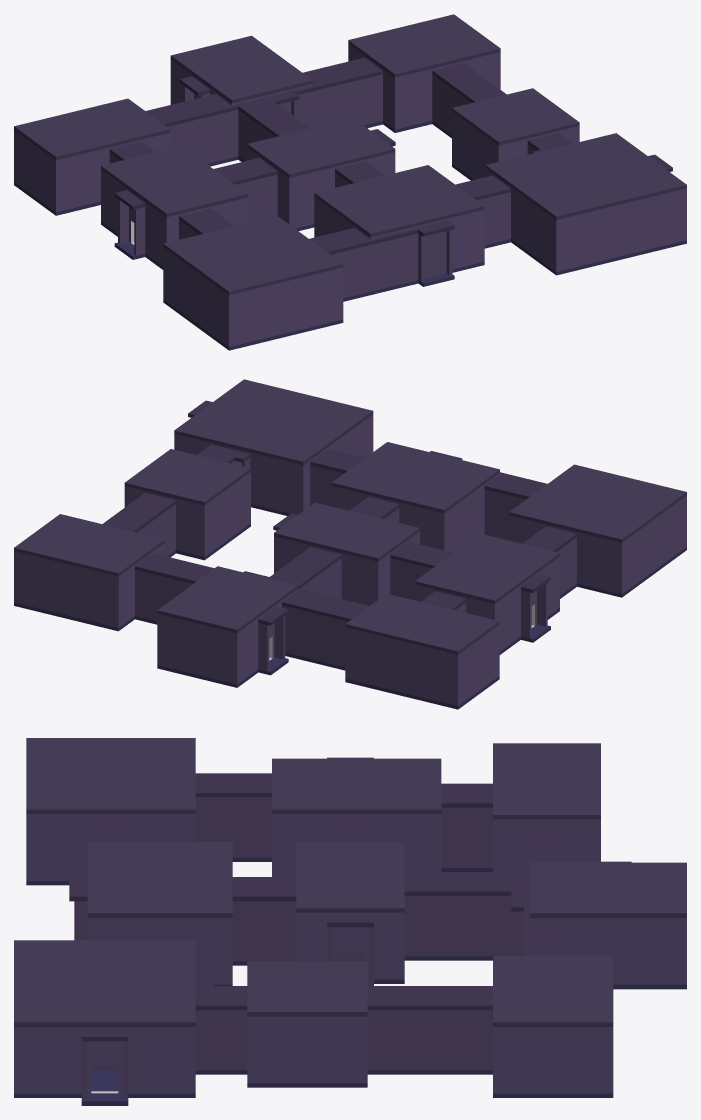
File: temple.glb
3 renders of one model, top to bottom at view 1: azimuth 30°, elevation 25°; view 2: azimuth 150°, elevation 25°; view 3: azimuth 270°, elevation 25°, orthographic. The views are drawn at different scales.
Visible parts, largest first — view 1: dungeon; view 2: dungeon; view 3: dungeon.
Part boxes in pixels (bbox=[...]): dungeon: bbox=[14, 14, 686, 350]; dungeon: bbox=[14, 379, 686, 709]; dungeon: bbox=[14, 738, 686, 1105].
Size of the model in its own units: 56.3 by 6.8 by 54.8.
